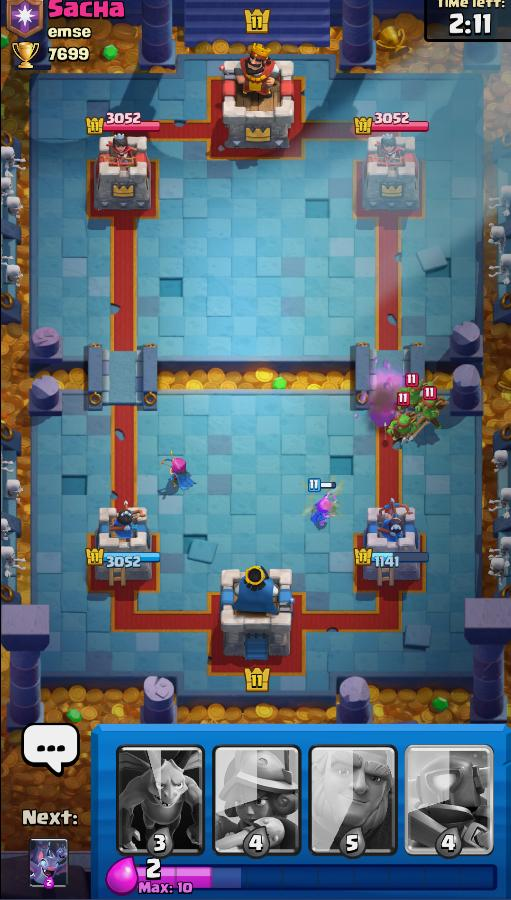archere: (162, 449, 192, 493), (309, 492, 340, 531)
gobelin_lances: (385, 409, 416, 449), (417, 395, 443, 431), (401, 379, 426, 412)
